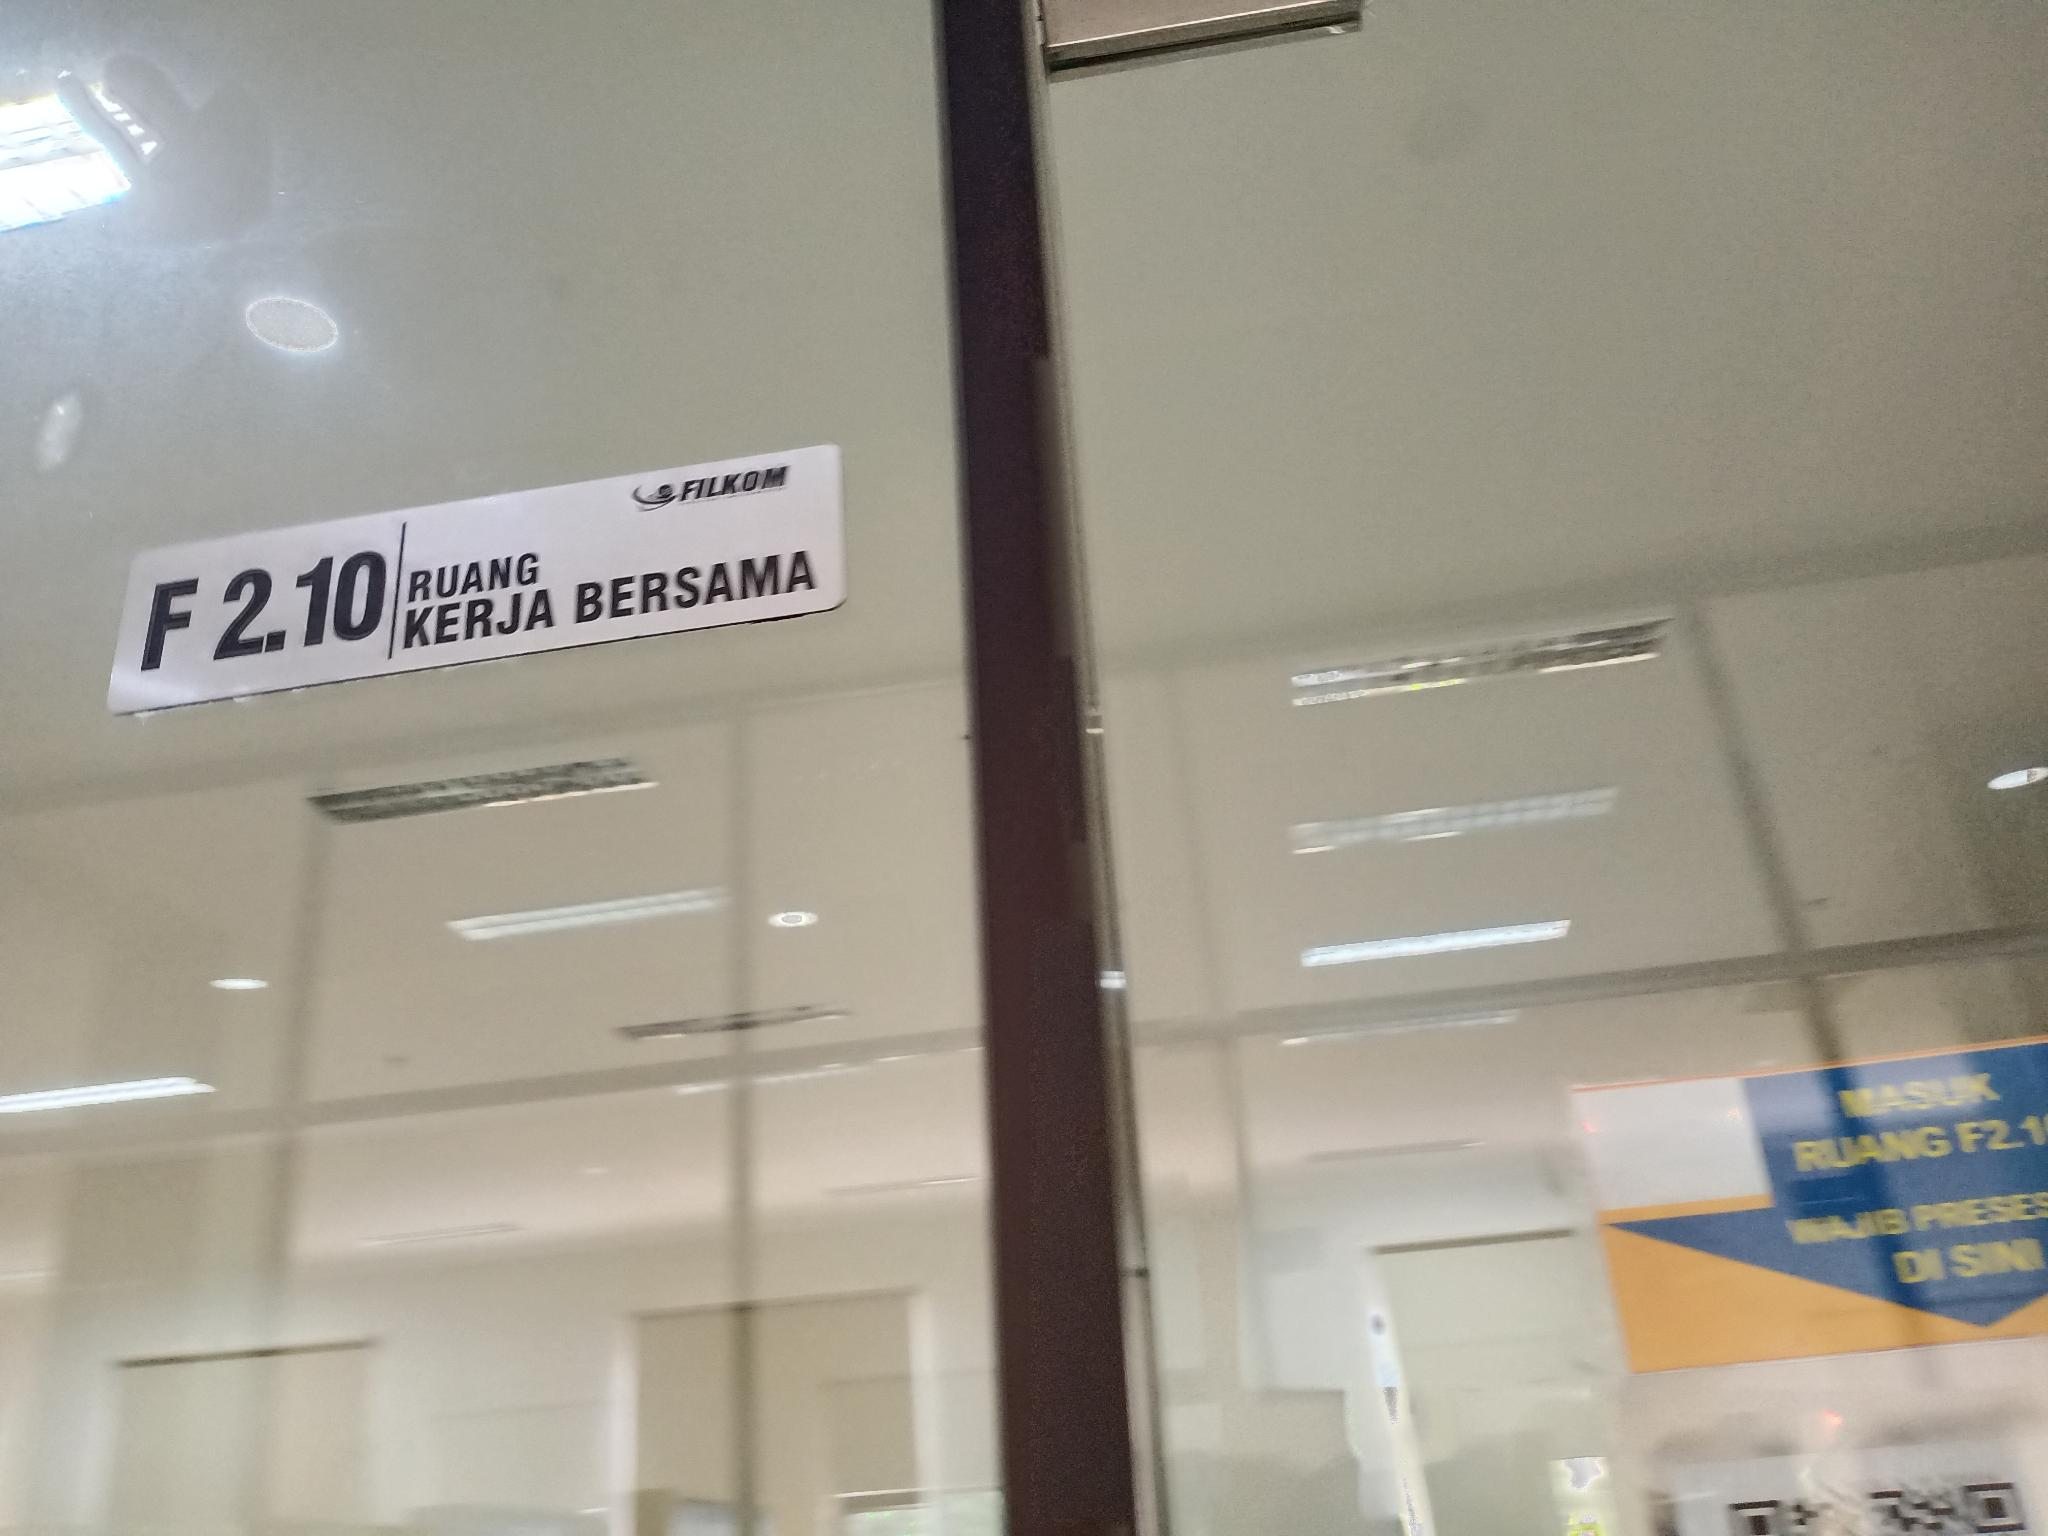plate: (100, 439, 850, 720)
